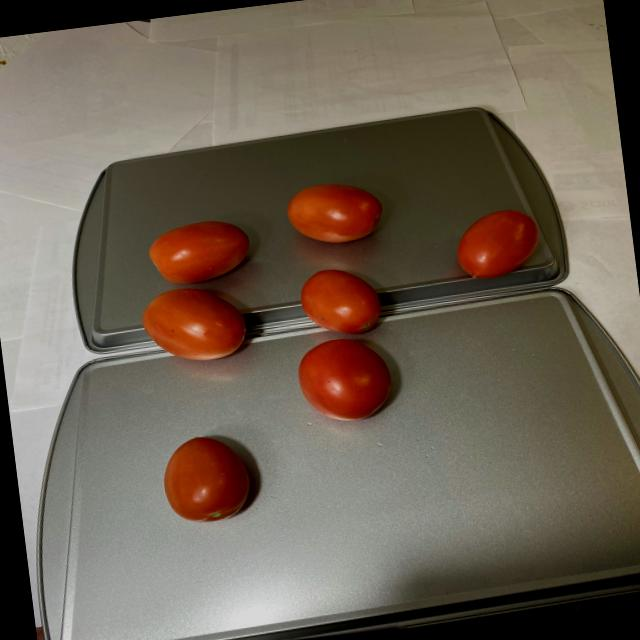tomato: (128, 158, 572, 530)
